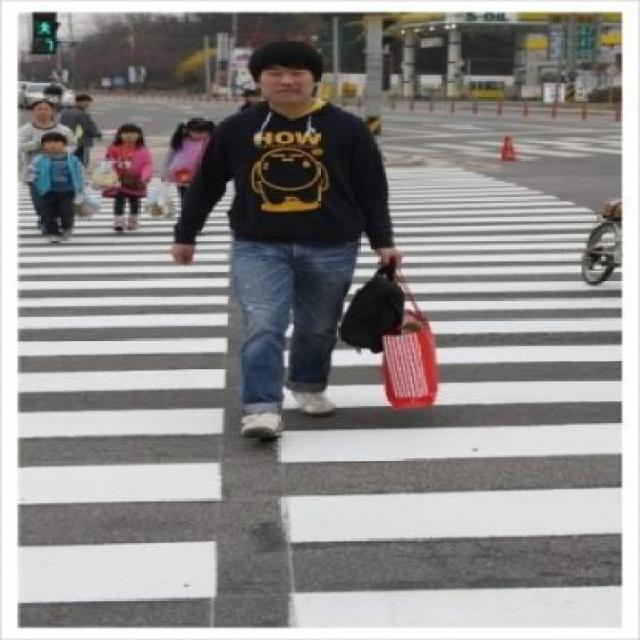Person: (178, 42, 402, 440), (16, 101, 78, 208), (32, 133, 90, 242), (101, 124, 150, 236), (165, 118, 218, 218)
